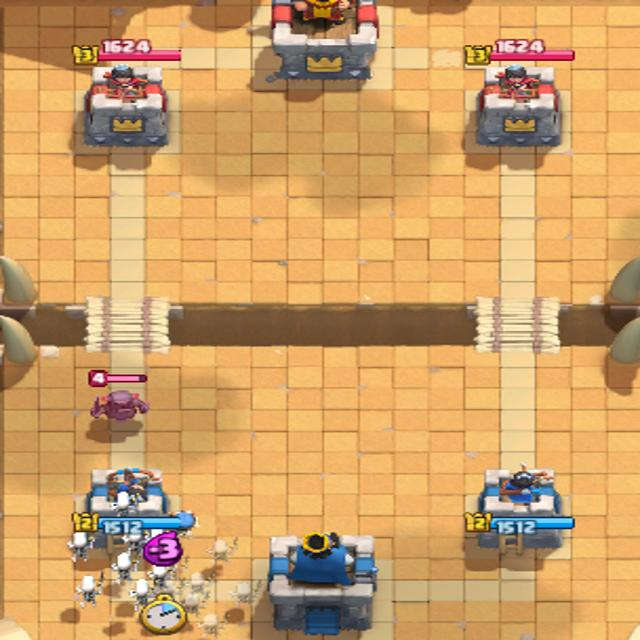EKingTower: (266, 0, 378, 81)
EMiniPeka: (91, 390, 149, 422)
EnemyPrincessTower: (477, 62, 559, 145), (85, 64, 167, 146)
OLarry: (76, 575, 99, 607), (229, 581, 256, 606), (198, 614, 223, 637), (112, 552, 131, 582), (130, 579, 148, 609), (123, 533, 145, 556), (73, 532, 90, 561), (214, 540, 233, 564), (185, 592, 200, 613), (153, 566, 166, 588), (190, 572, 203, 590)
OwnKingTower: (267, 537, 378, 632)
OwnPrincessTower: (472, 469, 573, 548), (86, 467, 167, 522)
